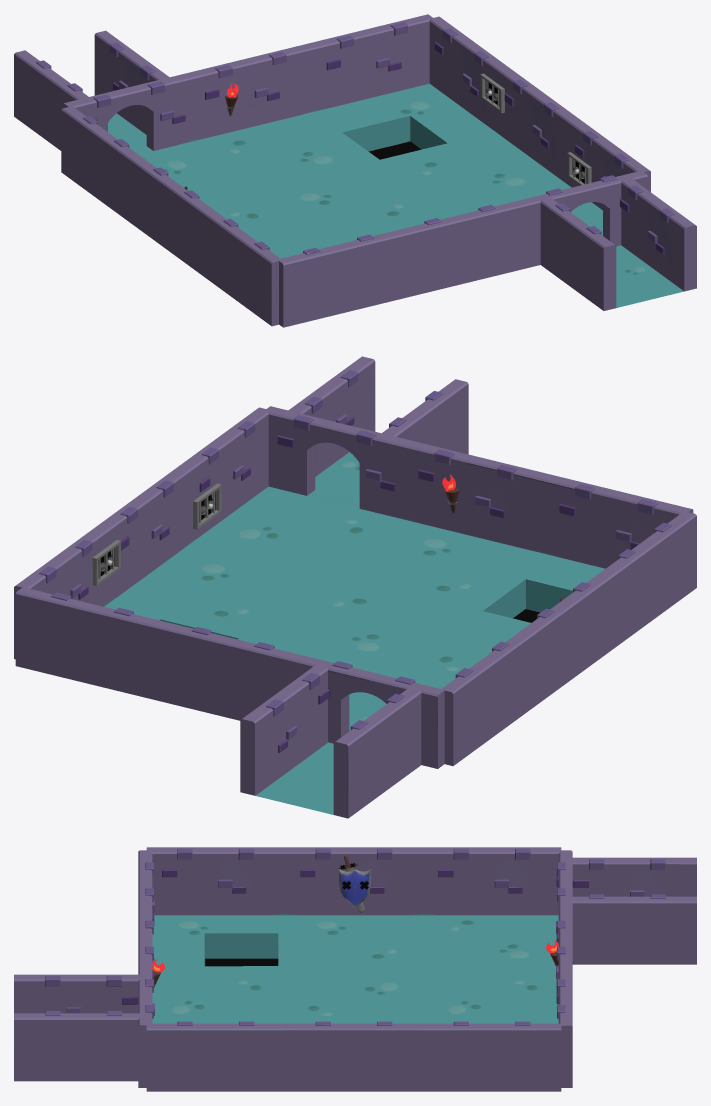
The model's file is RoomPitsBakeTest.glb.
The picture shows the model from 3 angles, top to bottom: view 1: azimuth 30°, elevation 25°; view 2: azimuth 150°, elevation 25°; view 3: azimuth 270°, elevation 25°; orthographic projection. The views are drawn at different scales.
Visible parts, largest first — view 1: Bake; view 2: Bake; view 3: Bake.
Boxes of the visible parts, x1,y1,x2,y2 form: Bake: (14,14,696,327); Bake: (14,356,696,818); Bake: (14,847,696,1091).
Size of the model in its own units: 31.21 by 7.1 by 49.43.
Materials: 3 (1 with a texture image).
